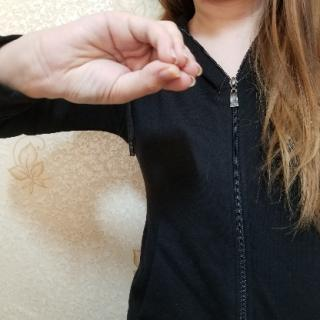HA: (37, 11, 209, 109)
